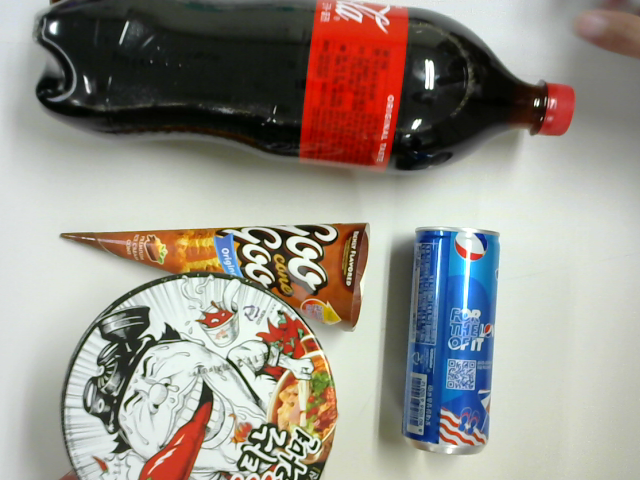Coca_Cola_1.5L: (35, 1, 576, 175)
GooGoo_Cone_CVS: (58, 223, 370, 329)
HeJangsock: (60, 273, 340, 480)
Pepsi_Cola_Can_250ml: (402, 227, 501, 456)
